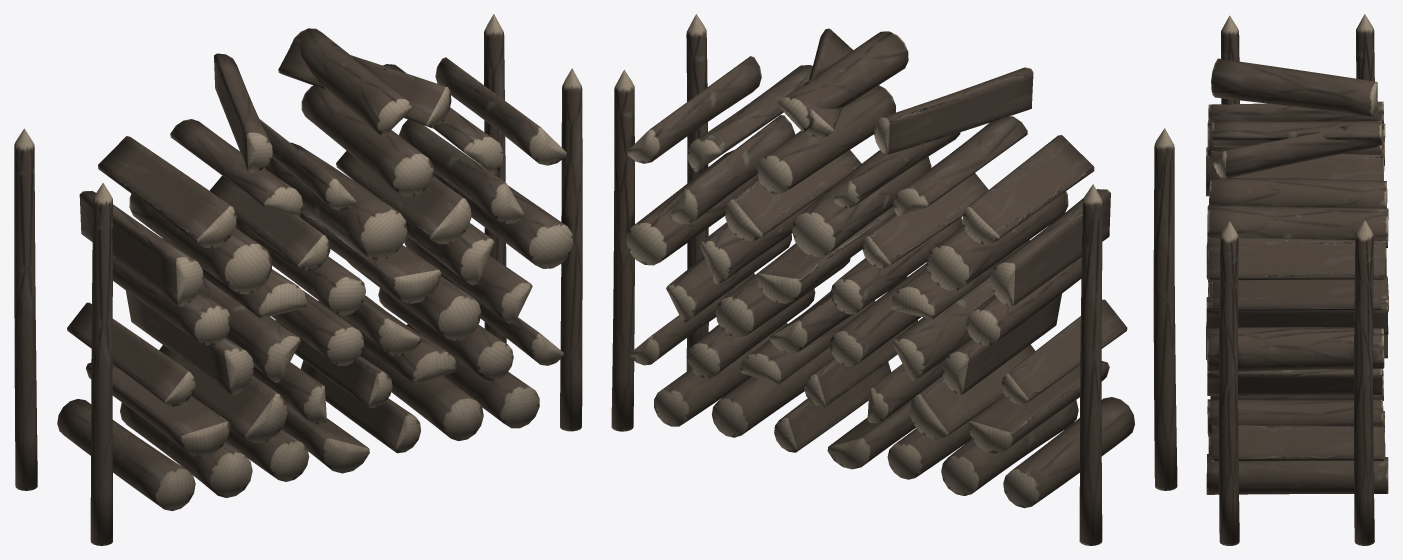
File: SM_Camp_Firewood.fbx
The picture shows the model from 3 angles, left to right: view 1: azimuth 30°, elevation 25°; view 2: azimuth 150°, elevation 25°; view 3: azimuth 270°, elevation 25°; orthographic projection. The views are drawn at different scales.
Parts seen in each view (by area): view 1: SM_Camp_Firewood; view 2: SM_Camp_Firewood; view 3: SM_Camp_Firewood.
Boxes of the visible parts, bbox=[...] form: SM_Camp_Firewood: bbox=[14, 14, 582, 545]; SM_Camp_Firewood: bbox=[611, 14, 1177, 545]; SM_Camp_Firewood: bbox=[1206, 14, 1388, 545].
Bounding box in the file's own units: 150 × 54.17 × 111.
